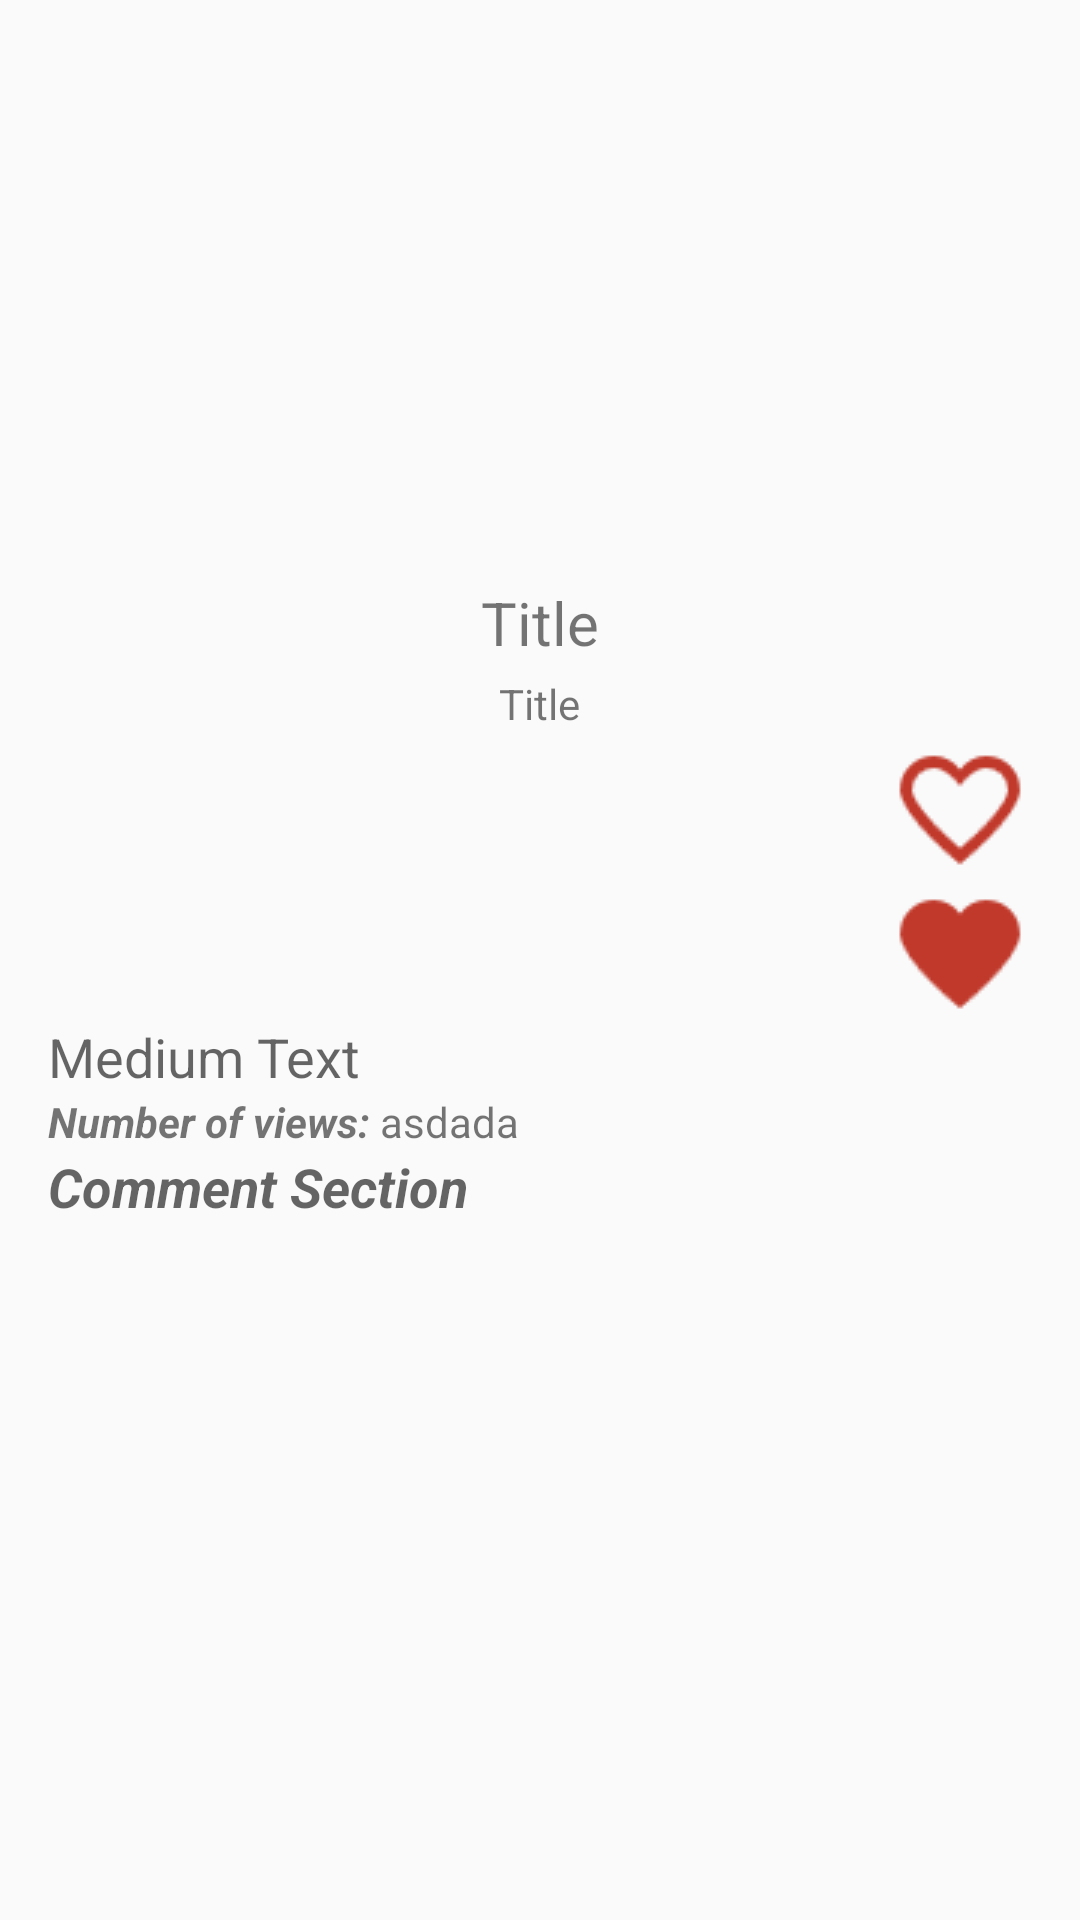

Screen size 1080*1920. Icon name, then its box in pixels as rect(x1, y1, x2, y2):
fav add: rect(899, 755, 1021, 865)
fav added: rect(899, 899, 1021, 1009)
